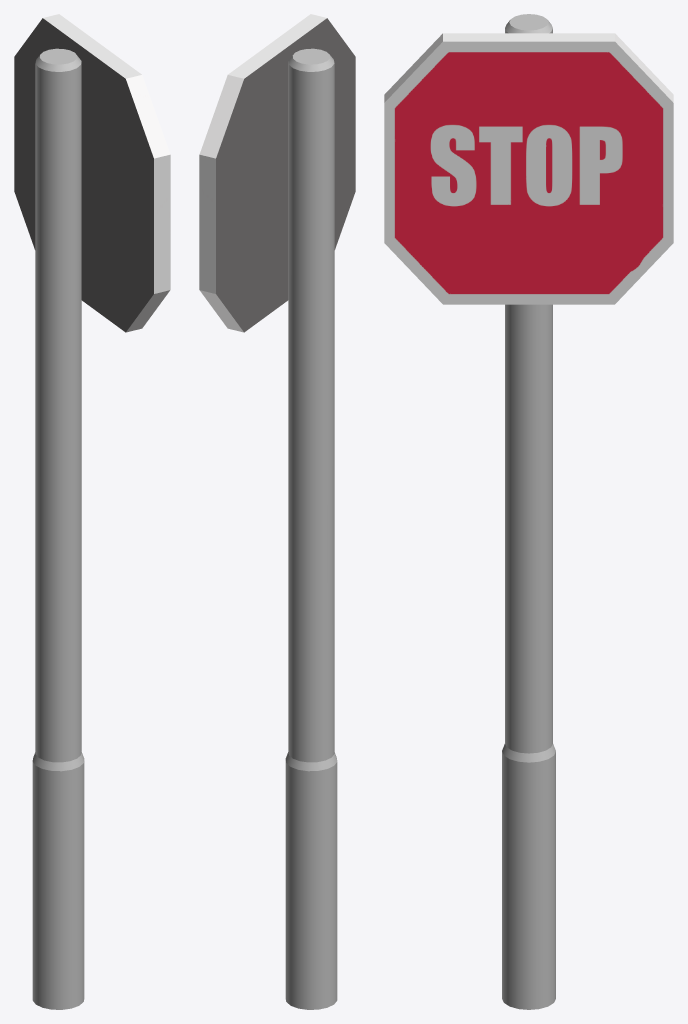
File: stopbord.fbx
3 views of the same model, side by side, from view 1: azimuth 30°, elevation 25°; view 2: azimuth 150°, elevation 25°; view 3: azimuth 270°, elevation 25° (orthographic). The views are drawn at different scales.
Parts seen in each view (by area): view 1: polySurface1, polySurface2; view 2: polySurface1, polySurface2; view 3: polySurface2, polySurface1.
Part boxes in pixels (x1=…): polySurface1: x1=32, y1=48, x2=84, y2=1009; polySurface2: x1=14, y1=14, x2=170, y2=332; polySurface1: x1=285, y1=48, x2=337, y2=1009; polySurface2: x1=199, y1=14, x2=355, y2=332; polySurface2: x1=384, y1=33, x2=673, y2=304; polySurface1: x1=502, y1=14, x2=555, y2=1009.
Size of the model in its own units: 3.12 by 43.37 by 11.61.
